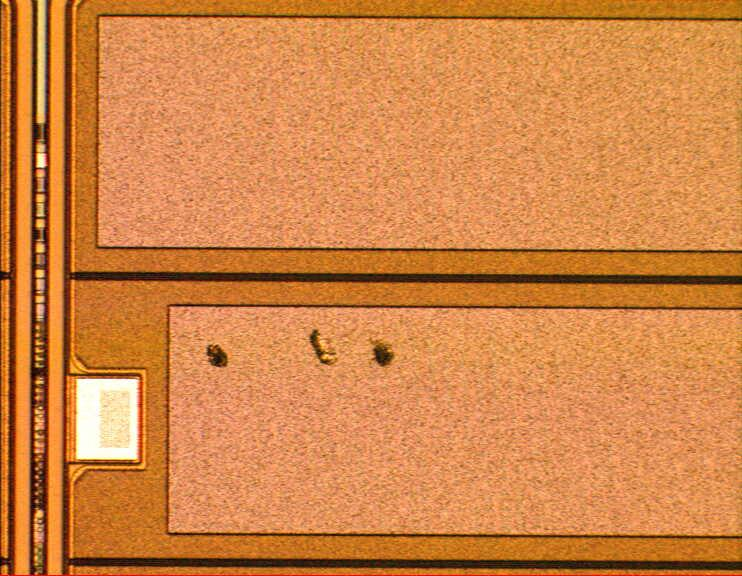SCRATCH: (190, 321, 416, 379)
